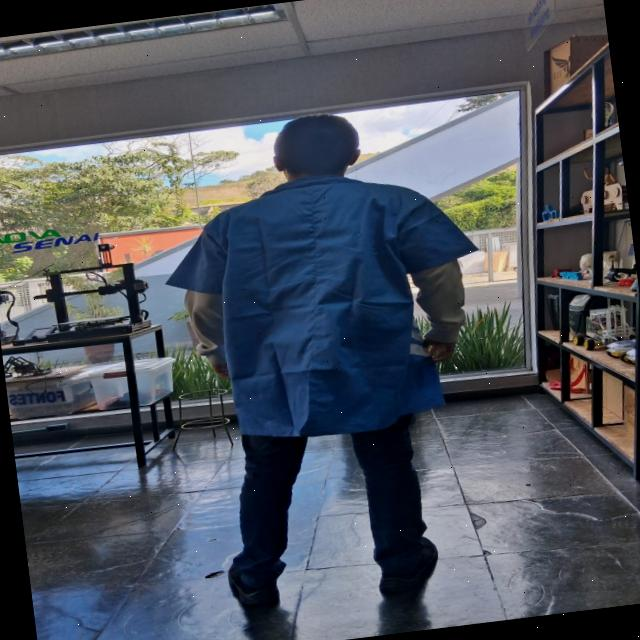BOTA: (219, 551, 283, 607)
CAPACETE: (373, 531, 448, 592)
JALECO: (159, 174, 488, 435)
SEM LUVA: (418, 335, 461, 365), (204, 358, 238, 381)
